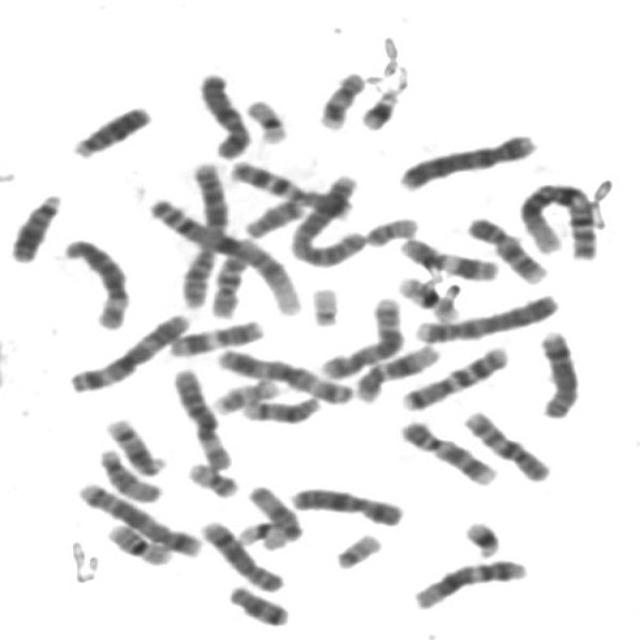A1: (140, 190, 306, 316), (511, 174, 602, 260)
A2: (173, 155, 231, 311), (283, 166, 369, 269)
A3: (60, 305, 194, 395), (207, 341, 356, 407)
B4: (390, 126, 541, 192), (408, 285, 563, 344)
B5: (69, 474, 206, 560), (312, 289, 406, 380)
C10: (455, 402, 554, 484), (203, 232, 257, 320)
C11: (391, 230, 502, 283), (162, 312, 266, 358)
C12: (404, 551, 531, 611), (348, 336, 445, 404)
C6: (55, 230, 133, 331), (166, 362, 234, 472)
C7: (222, 152, 354, 222), (394, 339, 512, 412)
C8: (192, 513, 288, 594), (530, 322, 582, 420)
C9: (392, 413, 500, 487), (459, 209, 550, 285)
D13: (64, 98, 154, 160), (3, 185, 65, 265)
D14: (98, 410, 168, 478), (234, 388, 324, 425)
D15: (90, 440, 167, 504), (240, 478, 306, 544)
E16: (99, 515, 176, 567), (390, 268, 462, 323)
E17: (309, 65, 367, 131), (204, 371, 282, 416)
E18: (236, 189, 309, 240), (219, 578, 293, 628)
F19: (237, 91, 291, 146), (230, 514, 290, 551)
F20: (179, 454, 241, 499), (358, 208, 421, 248)
G21: (352, 80, 403, 132), (456, 513, 504, 559)
G22: (327, 526, 385, 570), (302, 279, 343, 328)
X: (190, 65, 254, 160), (282, 479, 406, 528)
